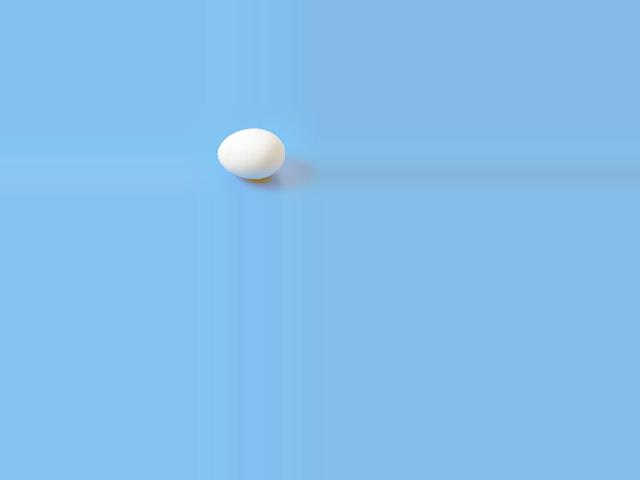egg: (217, 128, 286, 179)
